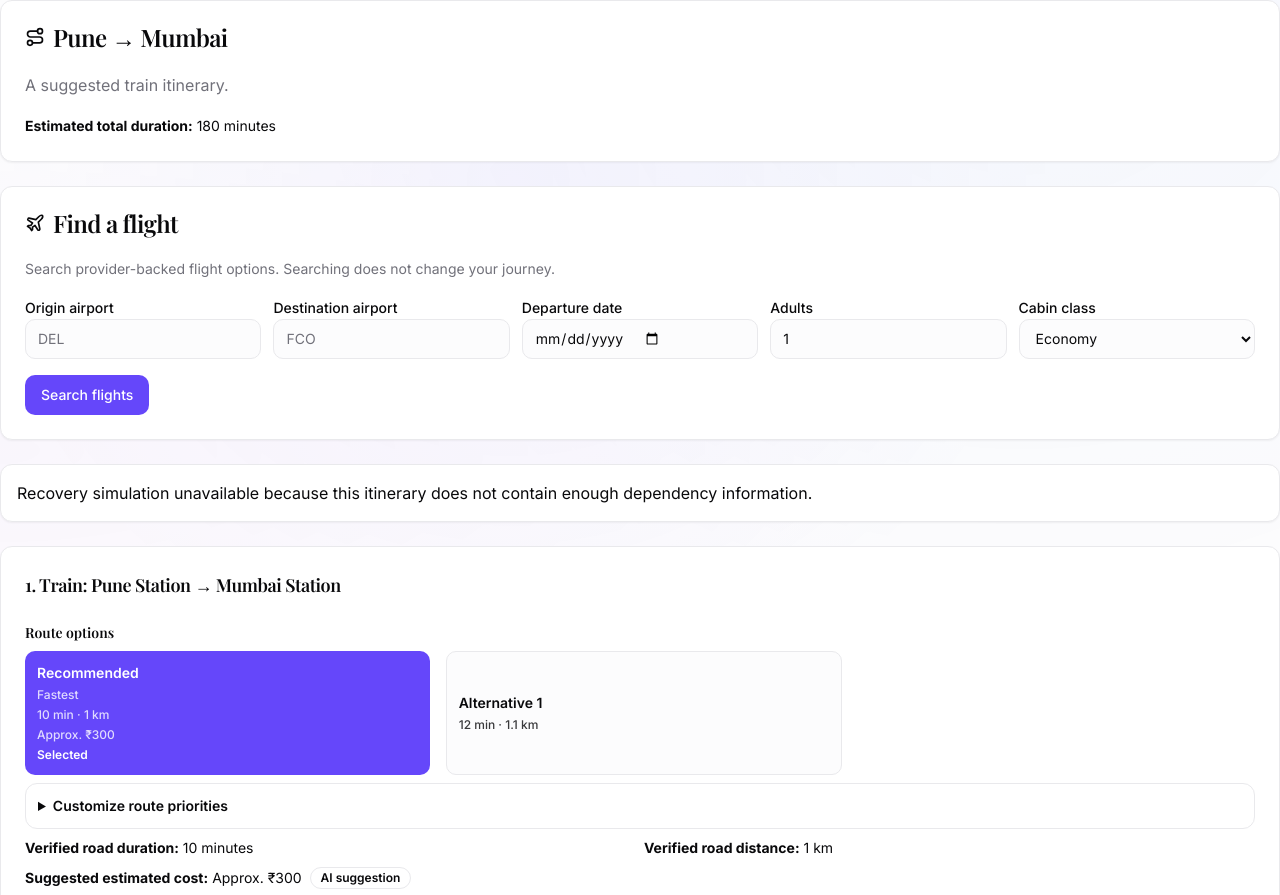
Test: AIJourneyPlanner › labels lowest estimated cost only when every option has comparable cost data
What coordinates should you click on to do the following:
click the button with aria-label "Select Alternative 1"
I would click on:
 (501, 702)
Its box is [446, 651, 842, 775].
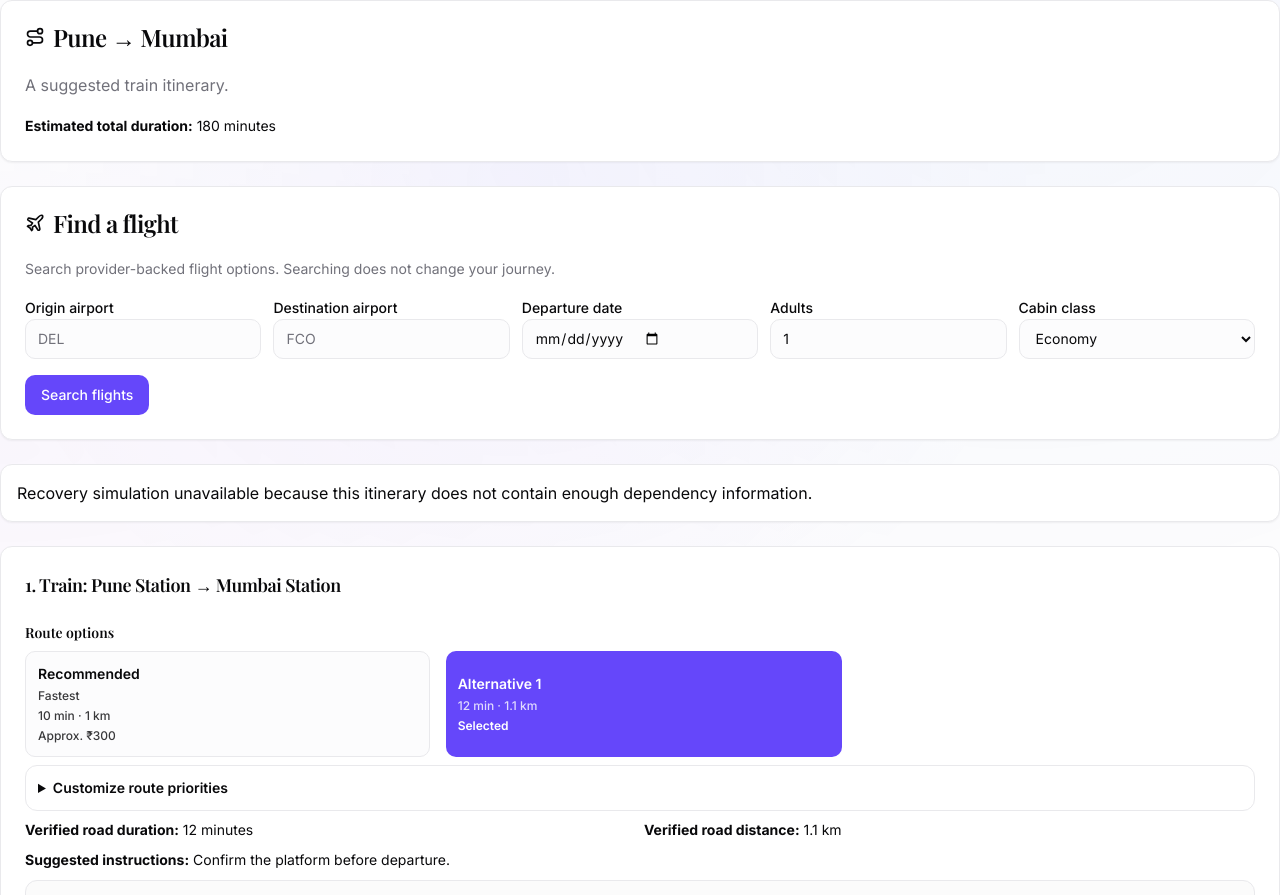
Check: the text "Suggested estimated cost:" is gone
